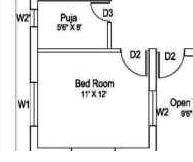door: (156, 45, 186, 80), (119, 43, 148, 78), (88, 1, 123, 25)
window: (25, 79, 45, 129), (145, 86, 161, 131), (24, 7, 47, 34)
